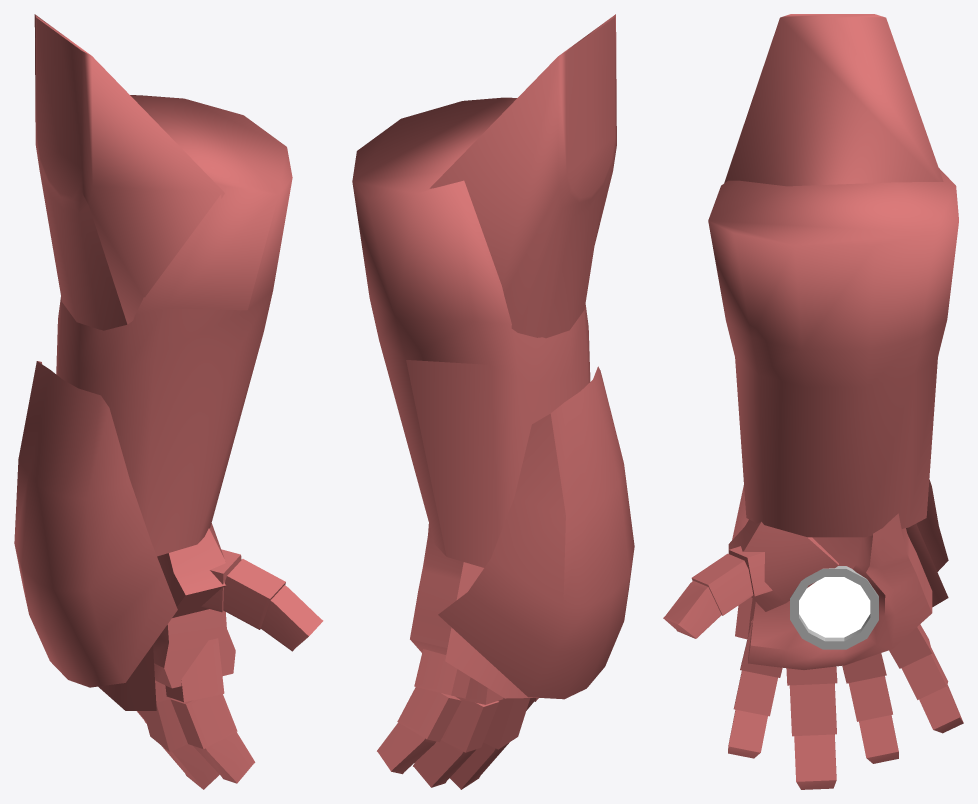
File: iron-man-left.glb
3 views of the same model, side by side, from view 1: azimuth 30°, elevation 25°; view 2: azimuth 150°, elevation 25°; view 3: azimuth 270°, elevation 25° (orthographic). The views are drawn at different scales.
Parts seen in each view (by area): view 1: Red; view 2: Red; view 3: Red.
Boxes of the visible parts, <box> form: Red: <box>14,14,323,789</box>; Red: <box>352,14,634,789</box>; Red: <box>663,14,963,789</box>.
Bounding box in the file's own units: 0.4253 × 1.38 × 0.5227.
